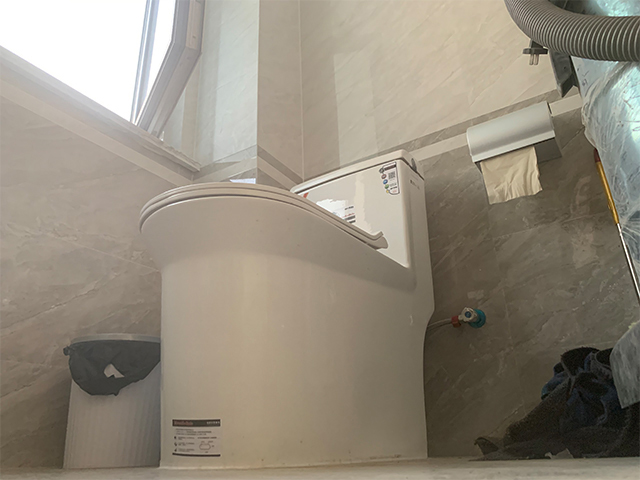closestool: (136, 148, 437, 472)
trashcan: (61, 333, 162, 470)
